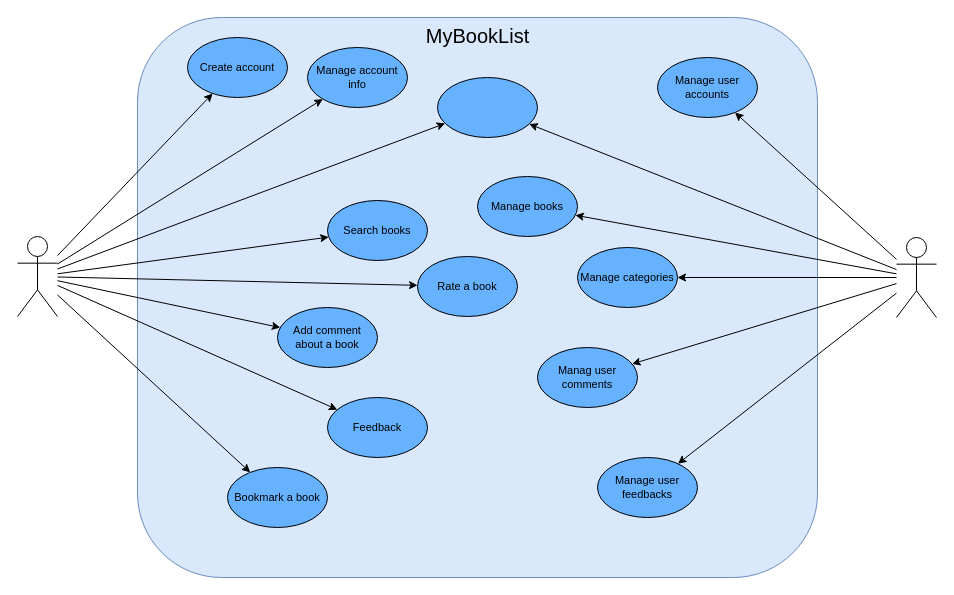
This 954x595 diagram has some shape labels left out. The shapes that lost their labels are listed below. From the top down, each one's centre as x and y in pixels, then its label:
the point at 487,107: Login
the point at 37,276: User
the point at 916,277: Admin
